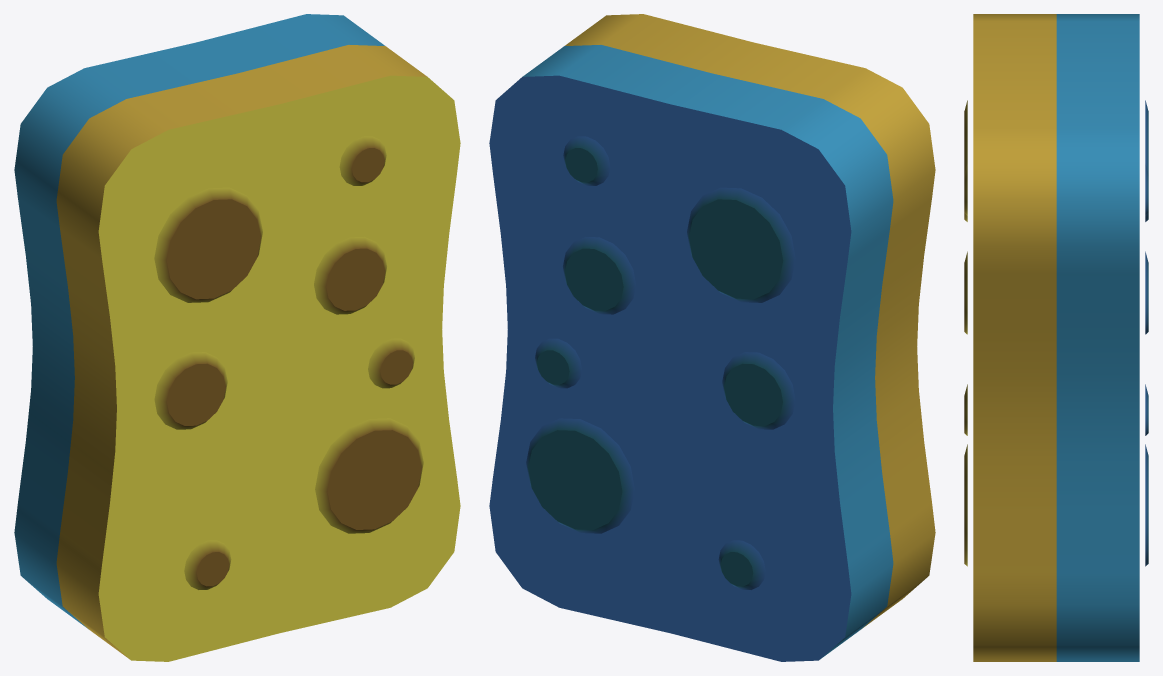
Rendered from tool_sponge.glb.
3 views of the same model, side by side, from view 1: azimuth 30°, elevation 25°; view 2: azimuth 150°, elevation 25°; view 3: azimuth 270°, elevation 25° (orthographic).
Visible parts, largest first — view 1: Sponge; view 2: Sponge; view 3: Sponge.
Part boxes in pixels (box(x1,y1,x2,y2)): Sponge: box(14, 14, 460, 661); Sponge: box(489, 14, 935, 661); Sponge: box(964, 14, 1148, 661).
Bounding box in the file's own units: 3.22 × 4.52 × 1.44.
